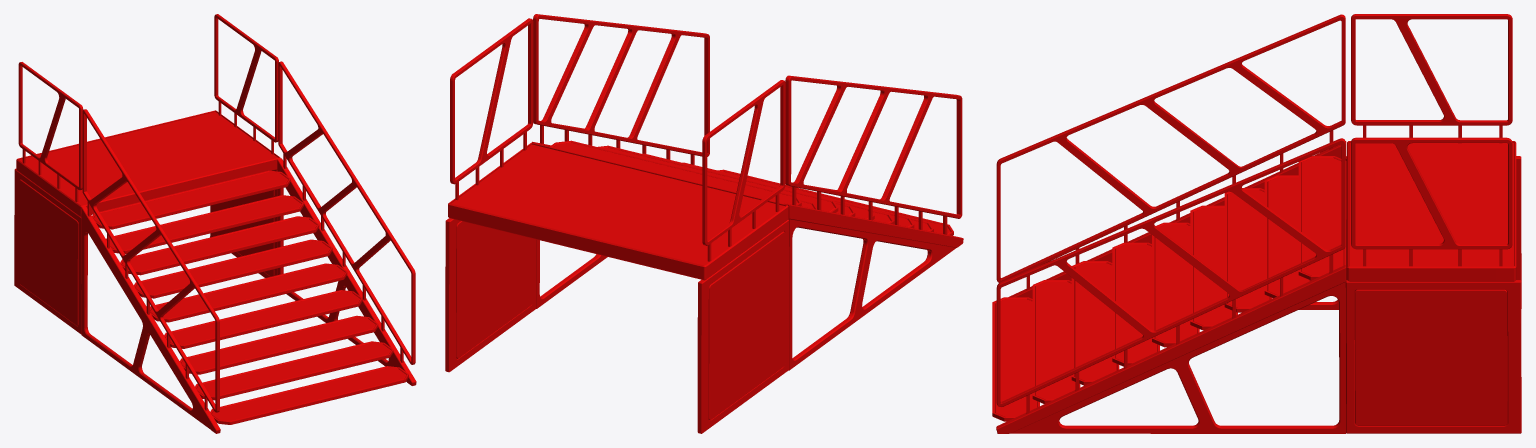
Rendered from Stairs_2.fbx.
3 views of the same model, side by side, from view 1: azimuth 30°, elevation 25°; view 2: azimuth 150°, elevation 25°; view 3: azimuth 270°, elevation 25° (orthographic). The views are drawn at different scales.
Visible parts, largest first — view 1: L3:polySurface2138; view 2: L3:polySurface2138; view 3: L3:polySurface2138.
Part boxes in pixels (x1=…): L3:polySurface2138: x1=14, y1=14, x2=416, y2=433; L3:polySurface2138: x1=445, y1=14, x2=963, y2=433; L3:polySurface2138: x1=992, y1=14, x2=1521, y2=433.
Bounding box in the file's own units: 262 × 284 × 463.
